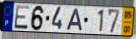1: (97, 9, 106, 33)
4: (51, 5, 65, 33)
6: (29, 4, 46, 32)
7: (107, 8, 122, 34)
A: (65, 8, 84, 32)
E: (13, 5, 31, 31)
